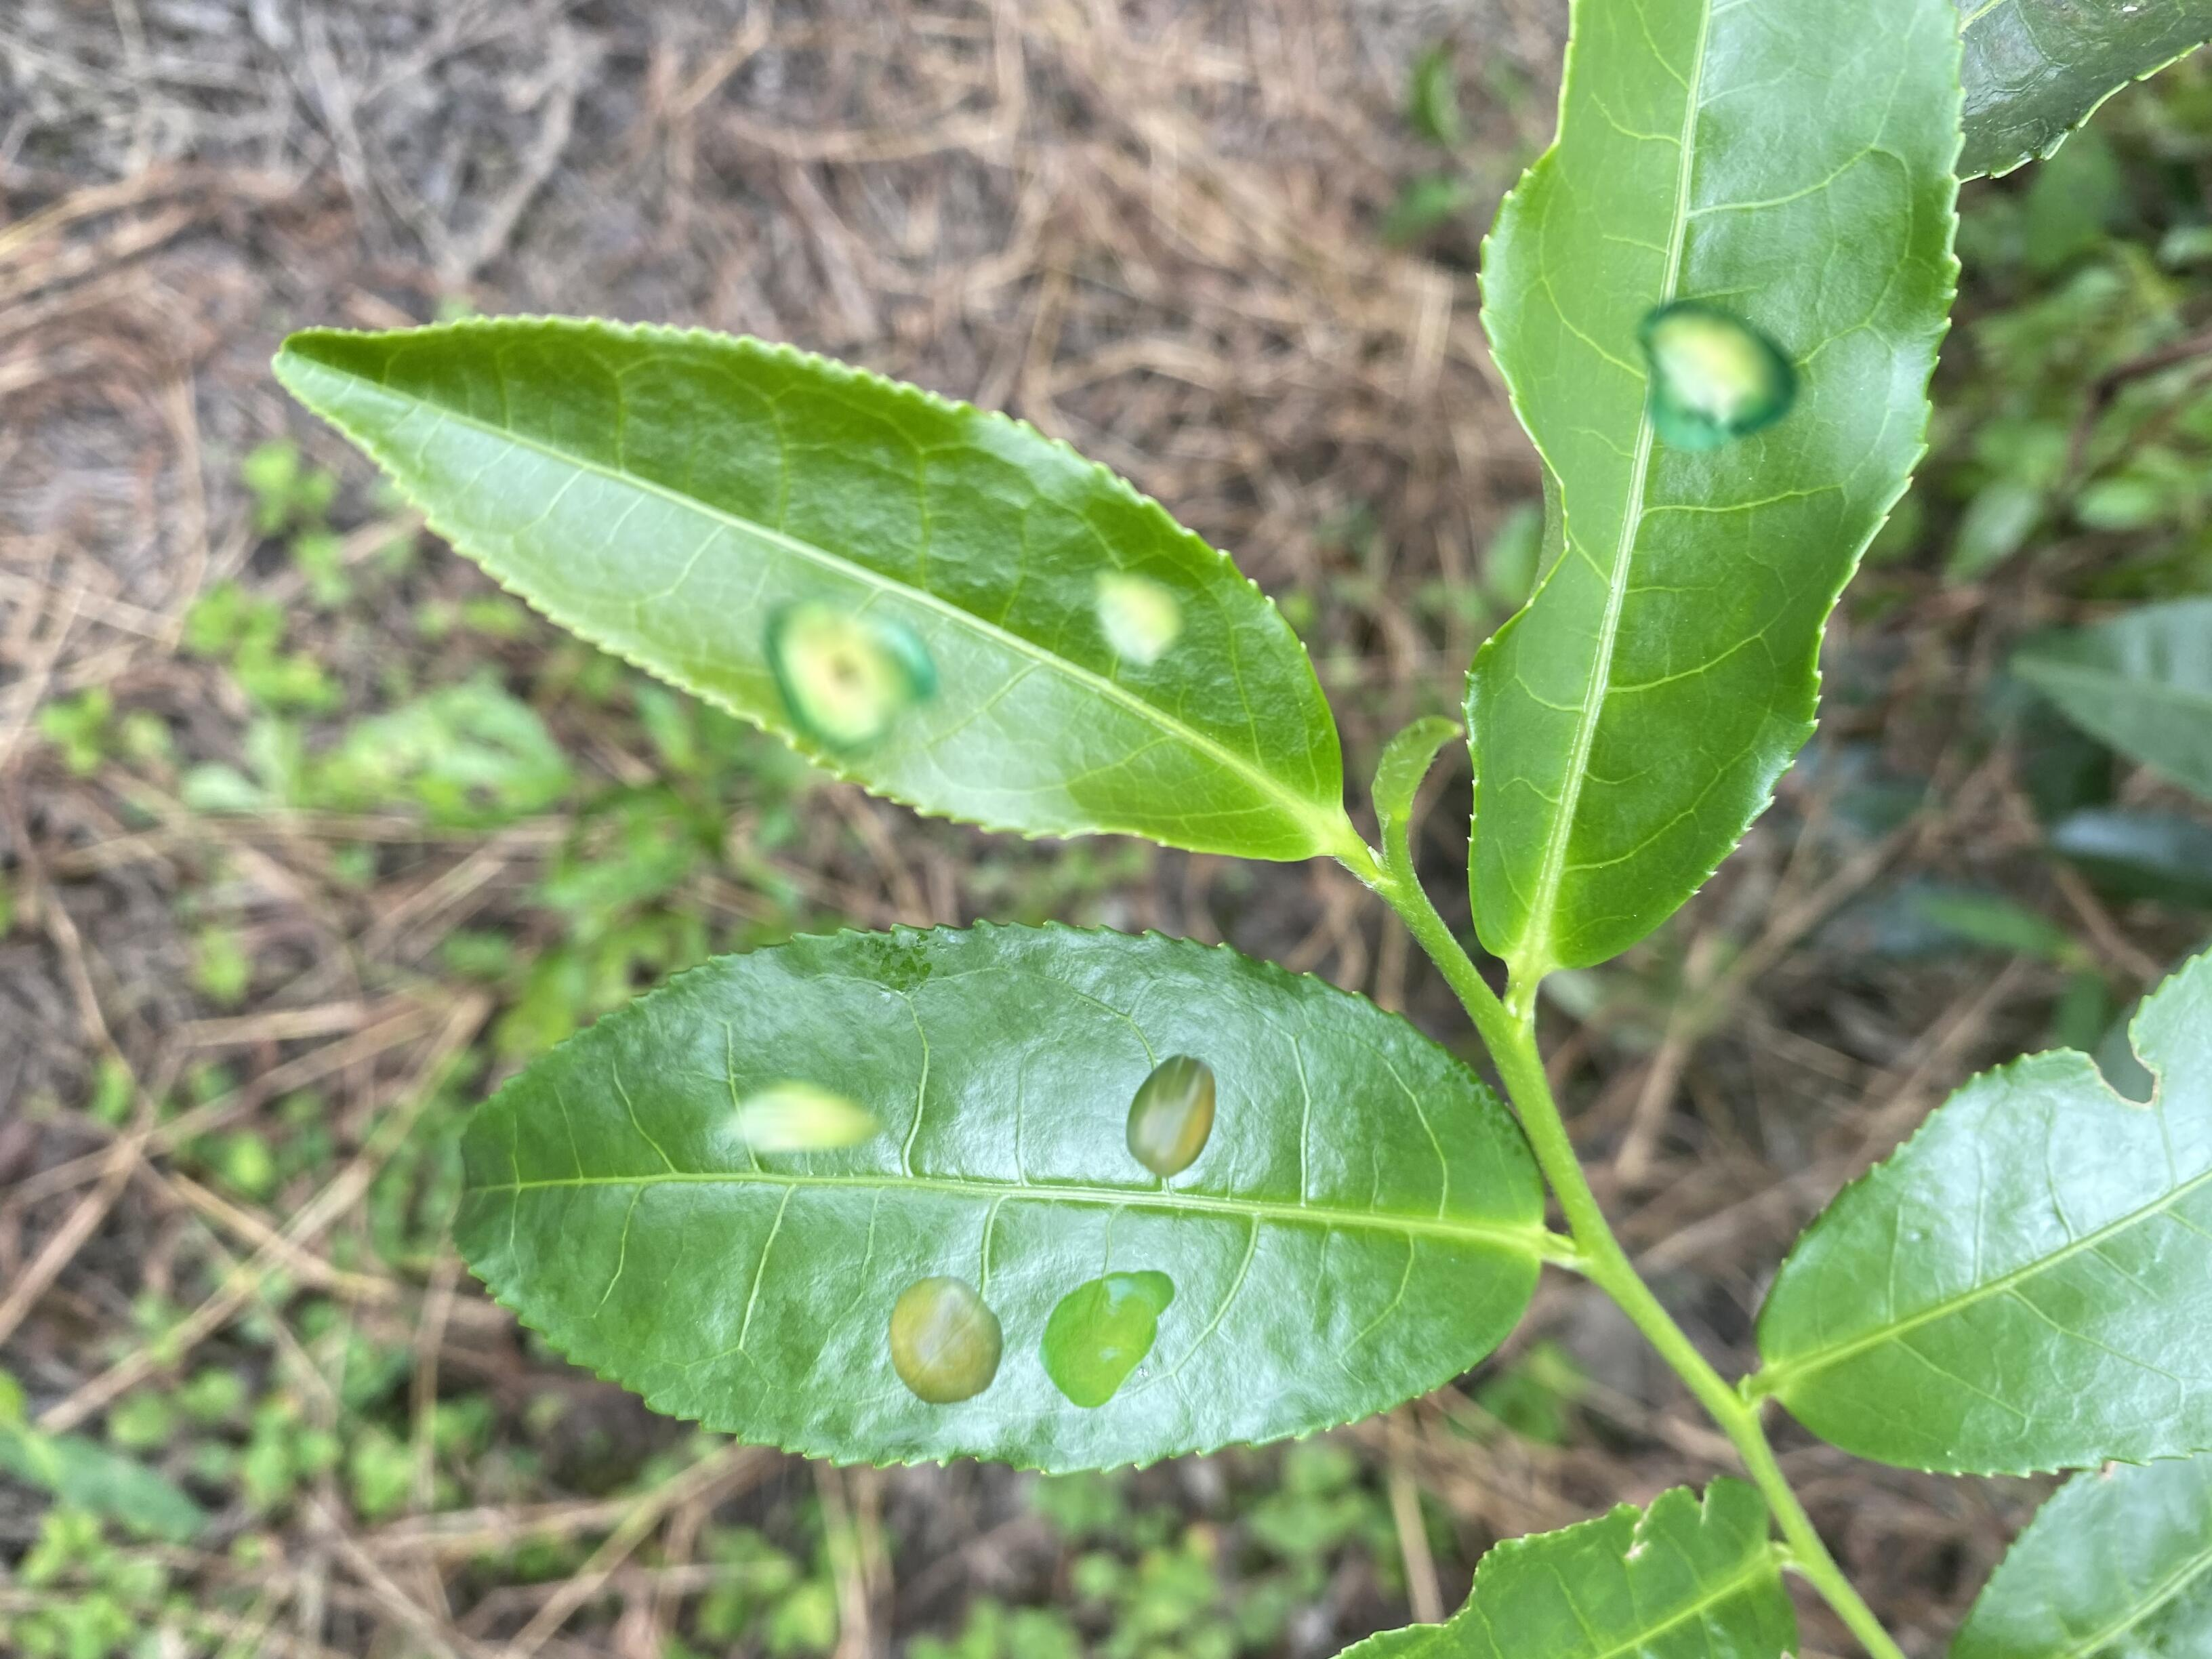chabing_high: (449, 918, 1545, 1481), (272, 315, 1348, 863)
chabing_low: (1465, 2, 1970, 979)
chihuo_low: (1750, 951, 2207, 1481)
